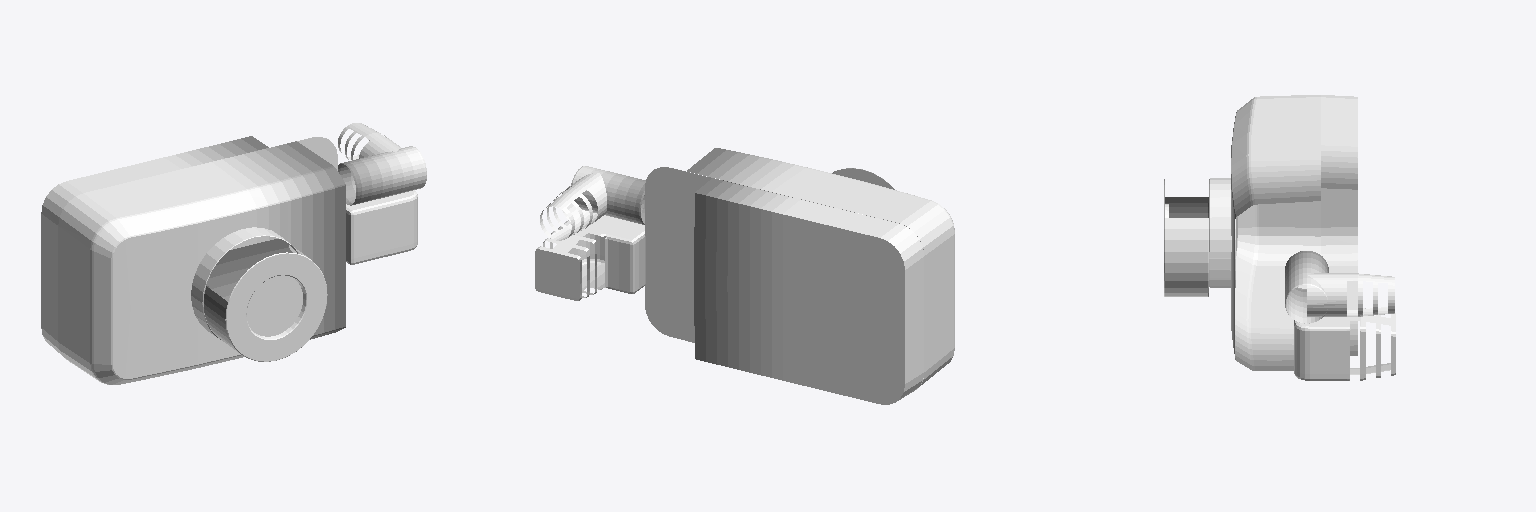
The picture shows the model from 3 angles: view 1: azimuth 30°, elevation 25°; view 2: azimuth 150°, elevation 25°; view 3: azimuth 270°, elevation 25°; orthographic projection.
Parts seen in each view (by area): view 1: dk2_camera_mesh; view 2: dk2_camera_mesh; view 3: dk2_camera_mesh.
Part boxes in pixels (bbox=[...]): dk2_camera_mesh: bbox=[41, 123, 426, 384]; dk2_camera_mesh: bbox=[535, 148, 954, 404]; dk2_camera_mesh: bbox=[1164, 95, 1395, 380].
Bounding box in the file's own units: 0.0713 × 0.0326 × 0.0405.
Materials: 1 (1 with a texture image).